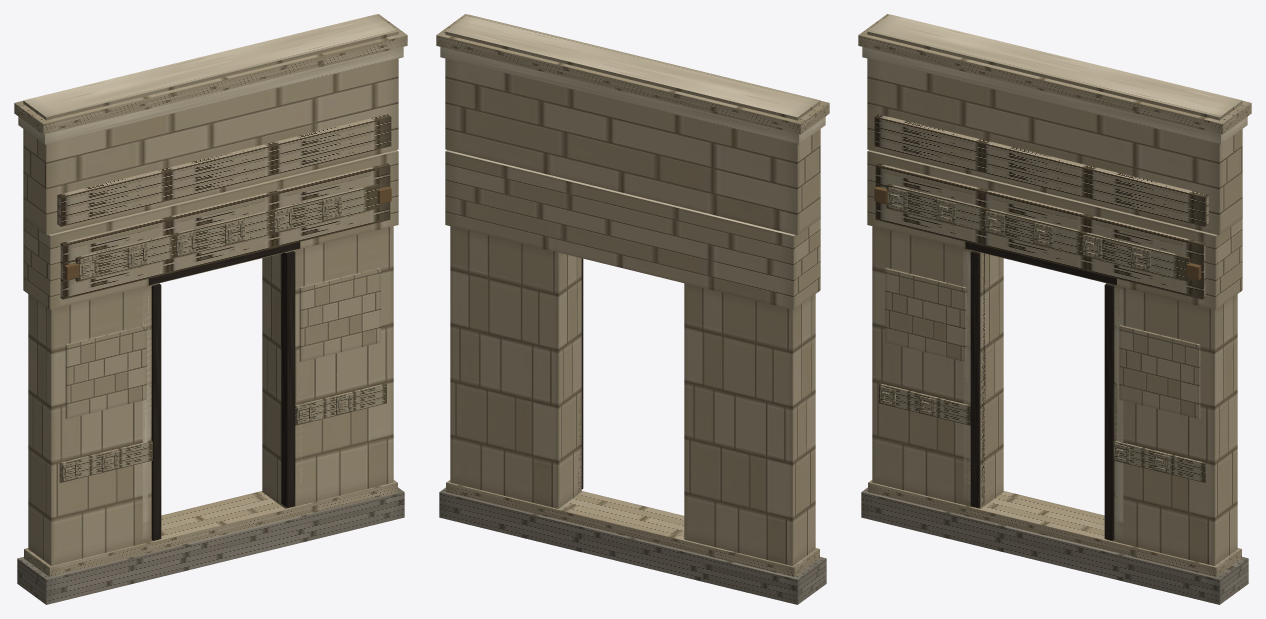
The model's file is ae_duel_stone_door_frame_lod0.glb.
3 renders of one model, left to right at view 1: azimuth 30°, elevation 25°; view 2: azimuth 150°, elevation 25°; view 3: azimuth 330°, elevation 25°, orthographic.
Visible parts, largest first — view 1: ae_duel_stone_door_frame_lod0; view 2: ae_duel_stone_door_frame_lod0; view 3: ae_duel_stone_door_frame_lod0.
Boxes of the visible parts, <box> form: ae_duel_stone_door_frame_lod0: <box>14,14,407,604</box>; ae_duel_stone_door_frame_lod0: <box>436,14,829,604</box>; ae_duel_stone_door_frame_lod0: <box>858,14,1251,604</box>.
Bounding box in the file's own units: 3.62 × 4.6 × 0.57.
1 material, 1 textured.
